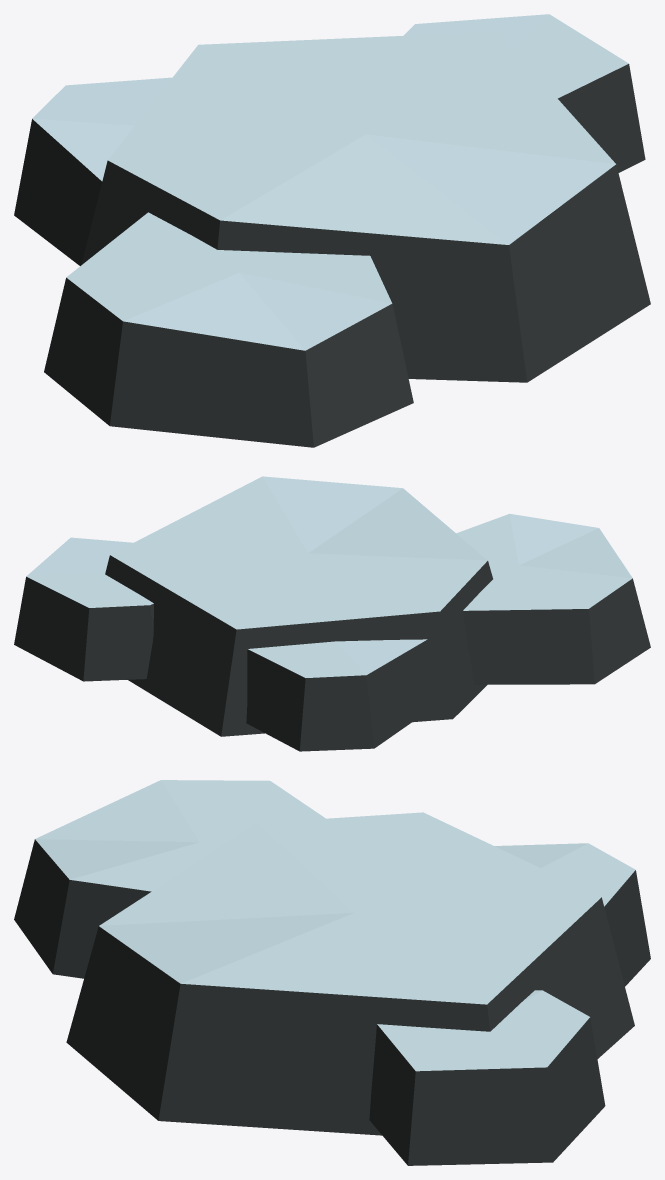
Rendered from SM_Env_Generic_Rock_04_Snow.fbx.
3 renders of one model, top to bottom at view 1: azimuth 30°, elevation 25°; view 2: azimuth 150°, elevation 25°; view 3: azimuth 270°, elevation 25°, orthographic. The views are drawn at different scales.
Parts seen in each view (by area): view 1: SM_Env_Generic_Rock_04_Snow; view 2: SM_Env_Generic_Rock_04_Snow; view 3: SM_Env_Generic_Rock_04_Snow.
Part boxes in pixels (x1,y1,x2,y2): SM_Env_Generic_Rock_04_Snow: (14,14,650,447); SM_Env_Generic_Rock_04_Snow: (14,476,650,751); SM_Env_Generic_Rock_04_Snow: (14,780,650,1165).
Bounding box in the file's own units: 85.12 × 16.52 × 74.97.
Materials: 1 (1 with a texture image).
